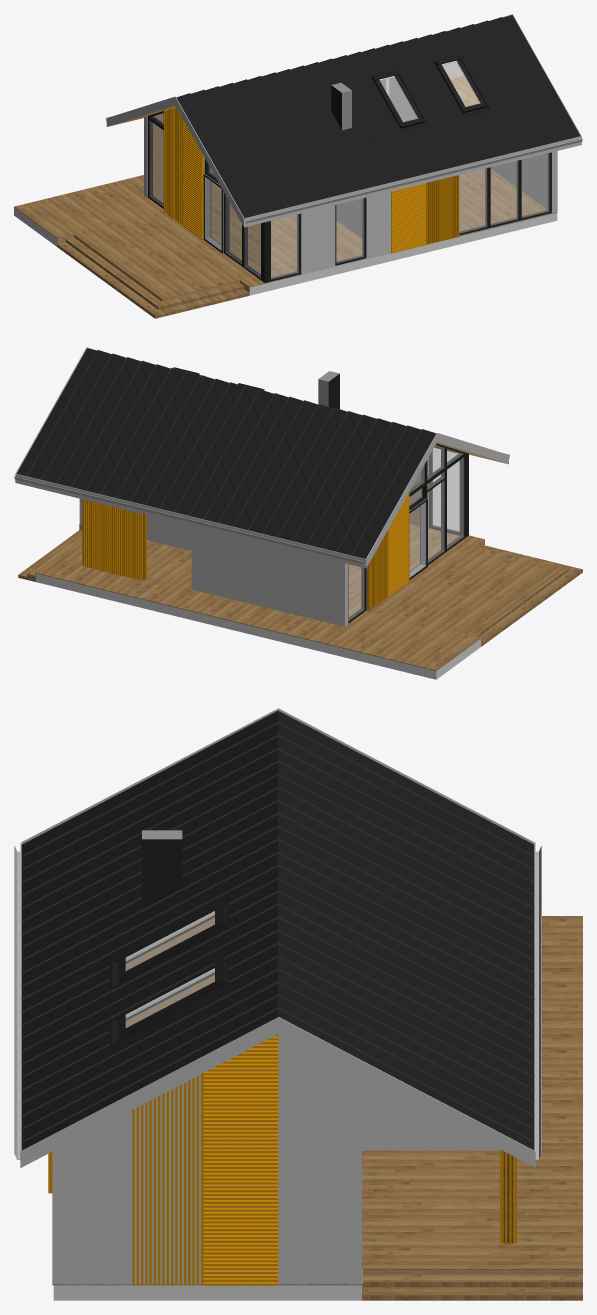
File: Module1+2.glb
3 views of the same model, one above another, from view 1: azimuth 30°, elevation 25°; view 2: azimuth 150°, elevation 25°; view 3: azimuth 270°, elevation 25° (orthographic). The views are drawn at different scales.
Visible parts, largest first — view 1: Черный, Новый материал (по умолчанию), Стекло, Штукатурка, Мягкая древесина, пиломатериалы, Сталь ASTM A36, Бетон - Железобетон, Дерево стены внутренние, Стена по умолчанию; view 2: Черный, Новый материал (по умолчанию), Штукатурка, Мягкая древесина, пиломатериалы, Стекло, Сталь ASTM A36, Бетон - Железобетон, Стена по умолчанию, Дерево стены внутренние; view 3: Черный, Штукатурка, Новый материал (по умолчанию), Сталь ASTM A36, Мягкая древесина, пиломатериалы, Бетон - Железобетон, Дерево стены внутренние, Стекло, Window Frame.
Part boxes in pixels (x1,y1,x2,y2): Черный: [148, 15, 579, 282]; Новый материал (по умолчанию): [14, 76, 557, 318]; Стекло: [150, 61, 549, 279]; Штукатурка: [105, 14, 582, 274]; Мягкая древесина, пиломатериалы: [163, 107, 459, 253]; Сталь ASTM A36: [178, 17, 570, 214]; Бетон - Железобетон: [14, 207, 557, 295]; Дерево стены внутренние: [57, 62, 480, 301]; Стена по умолчанию: [147, 82, 551, 274]; Черный: [16, 348, 468, 623]; Новый материал (по умолчанию): [18, 524, 582, 670]; Штукатурка: [14, 347, 509, 626]; Мягкая древесина, пиломатериалы: [82, 492, 409, 610]; Стекло: [349, 445, 463, 620]; Сталь ASTM A36: [26, 350, 434, 555]; Бетон - Железобетон: [36, 573, 480, 679]; Стена по умолчанию: [318, 371, 428, 610]; Дерево стены внутренние: [35, 442, 556, 646]; Черный: [21, 711, 534, 1150]; Штукатурка: [14, 708, 541, 1285]; Новый материал (по умолчанию): [52, 916, 582, 1300]; Сталь ASTM A36: [21, 722, 534, 1142]; Мягкая древесина, пиломатериалы: [48, 1034, 516, 1285]; Бетон - Железобетон: [53, 1285, 361, 1300]; Дерево стены внутренние: [125, 918, 582, 1300]; Стекло: [126, 911, 214, 1027]; Window Frame: [125, 911, 214, 1017].
Size of the model in its own units: 14.73 by 5.35 by 9.27.
Materials: 15 (9 with a texture image).
